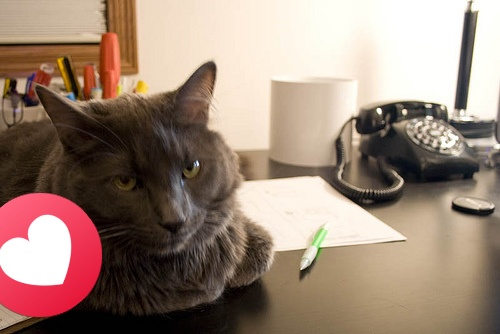love: (0, 193, 102, 317)
